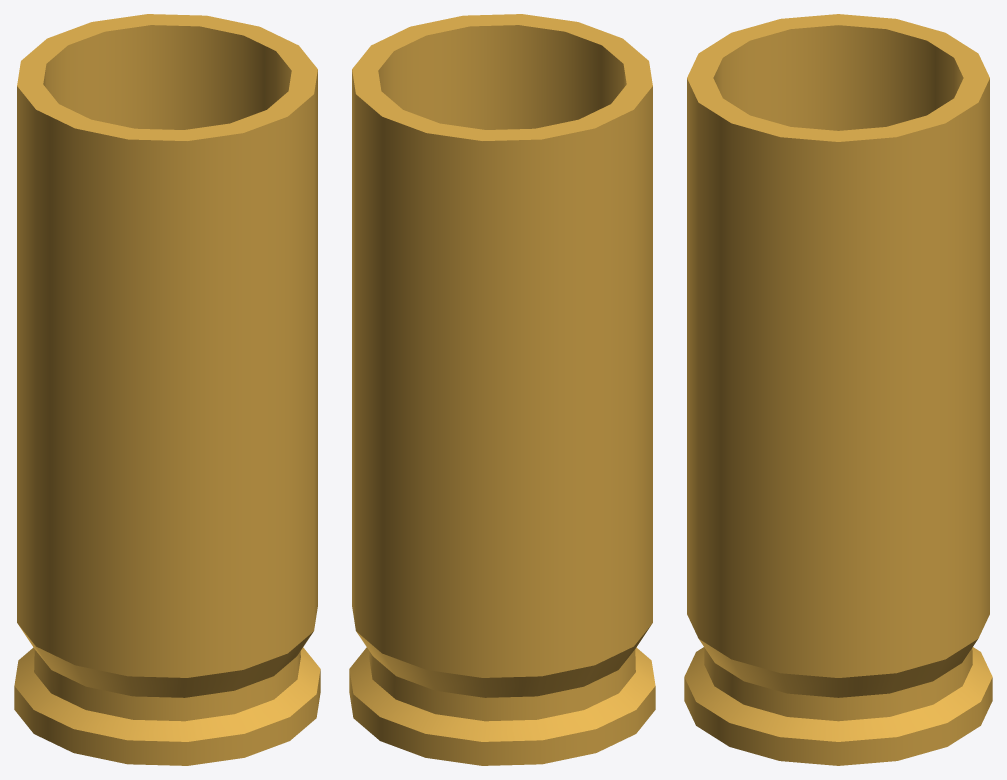
3 renders of one model, left to right at view 1: azimuth 30°, elevation 25°; view 2: azimuth 150°, elevation 25°; view 3: azimuth 270°, elevation 25°, orthographic.
Parts seen in each view (by area): view 1: 9mm_LP; view 2: 9mm_LP; view 3: 9mm_LP.
Boxes of the visible parts, box(x1,y1,x2,y2) form: 9mm_LP: box(14, 14, 320, 765); 9mm_LP: box(349, 14, 655, 765); 9mm_LP: box(684, 14, 992, 765).
Size of the model in its own units: 1.87 by 4.18 by 1.87.
